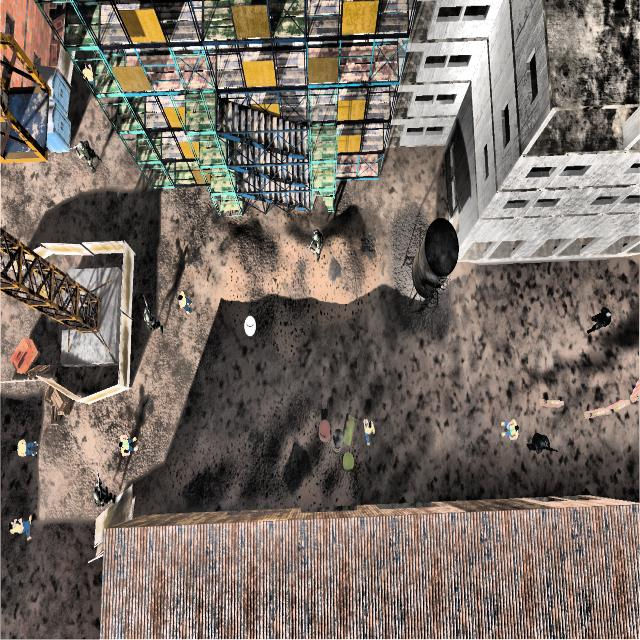bad: (578, 299, 614, 343), (69, 134, 104, 179), (86, 473, 118, 513), (140, 296, 166, 342), (526, 428, 555, 464), (303, 224, 328, 263)
good: (4, 510, 38, 543), (114, 426, 143, 462), (11, 435, 41, 465), (495, 410, 519, 446), (173, 286, 196, 323), (358, 414, 378, 453), (80, 62, 99, 98)
